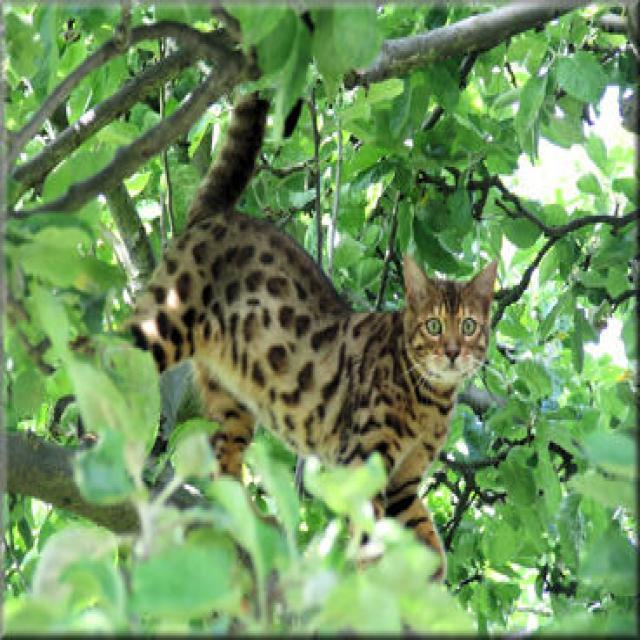Bengal: (395, 246, 504, 391)
